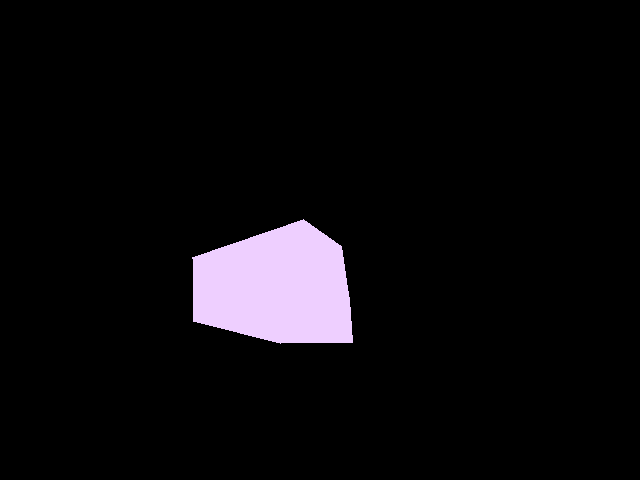Train: (192, 219, 352, 343)
